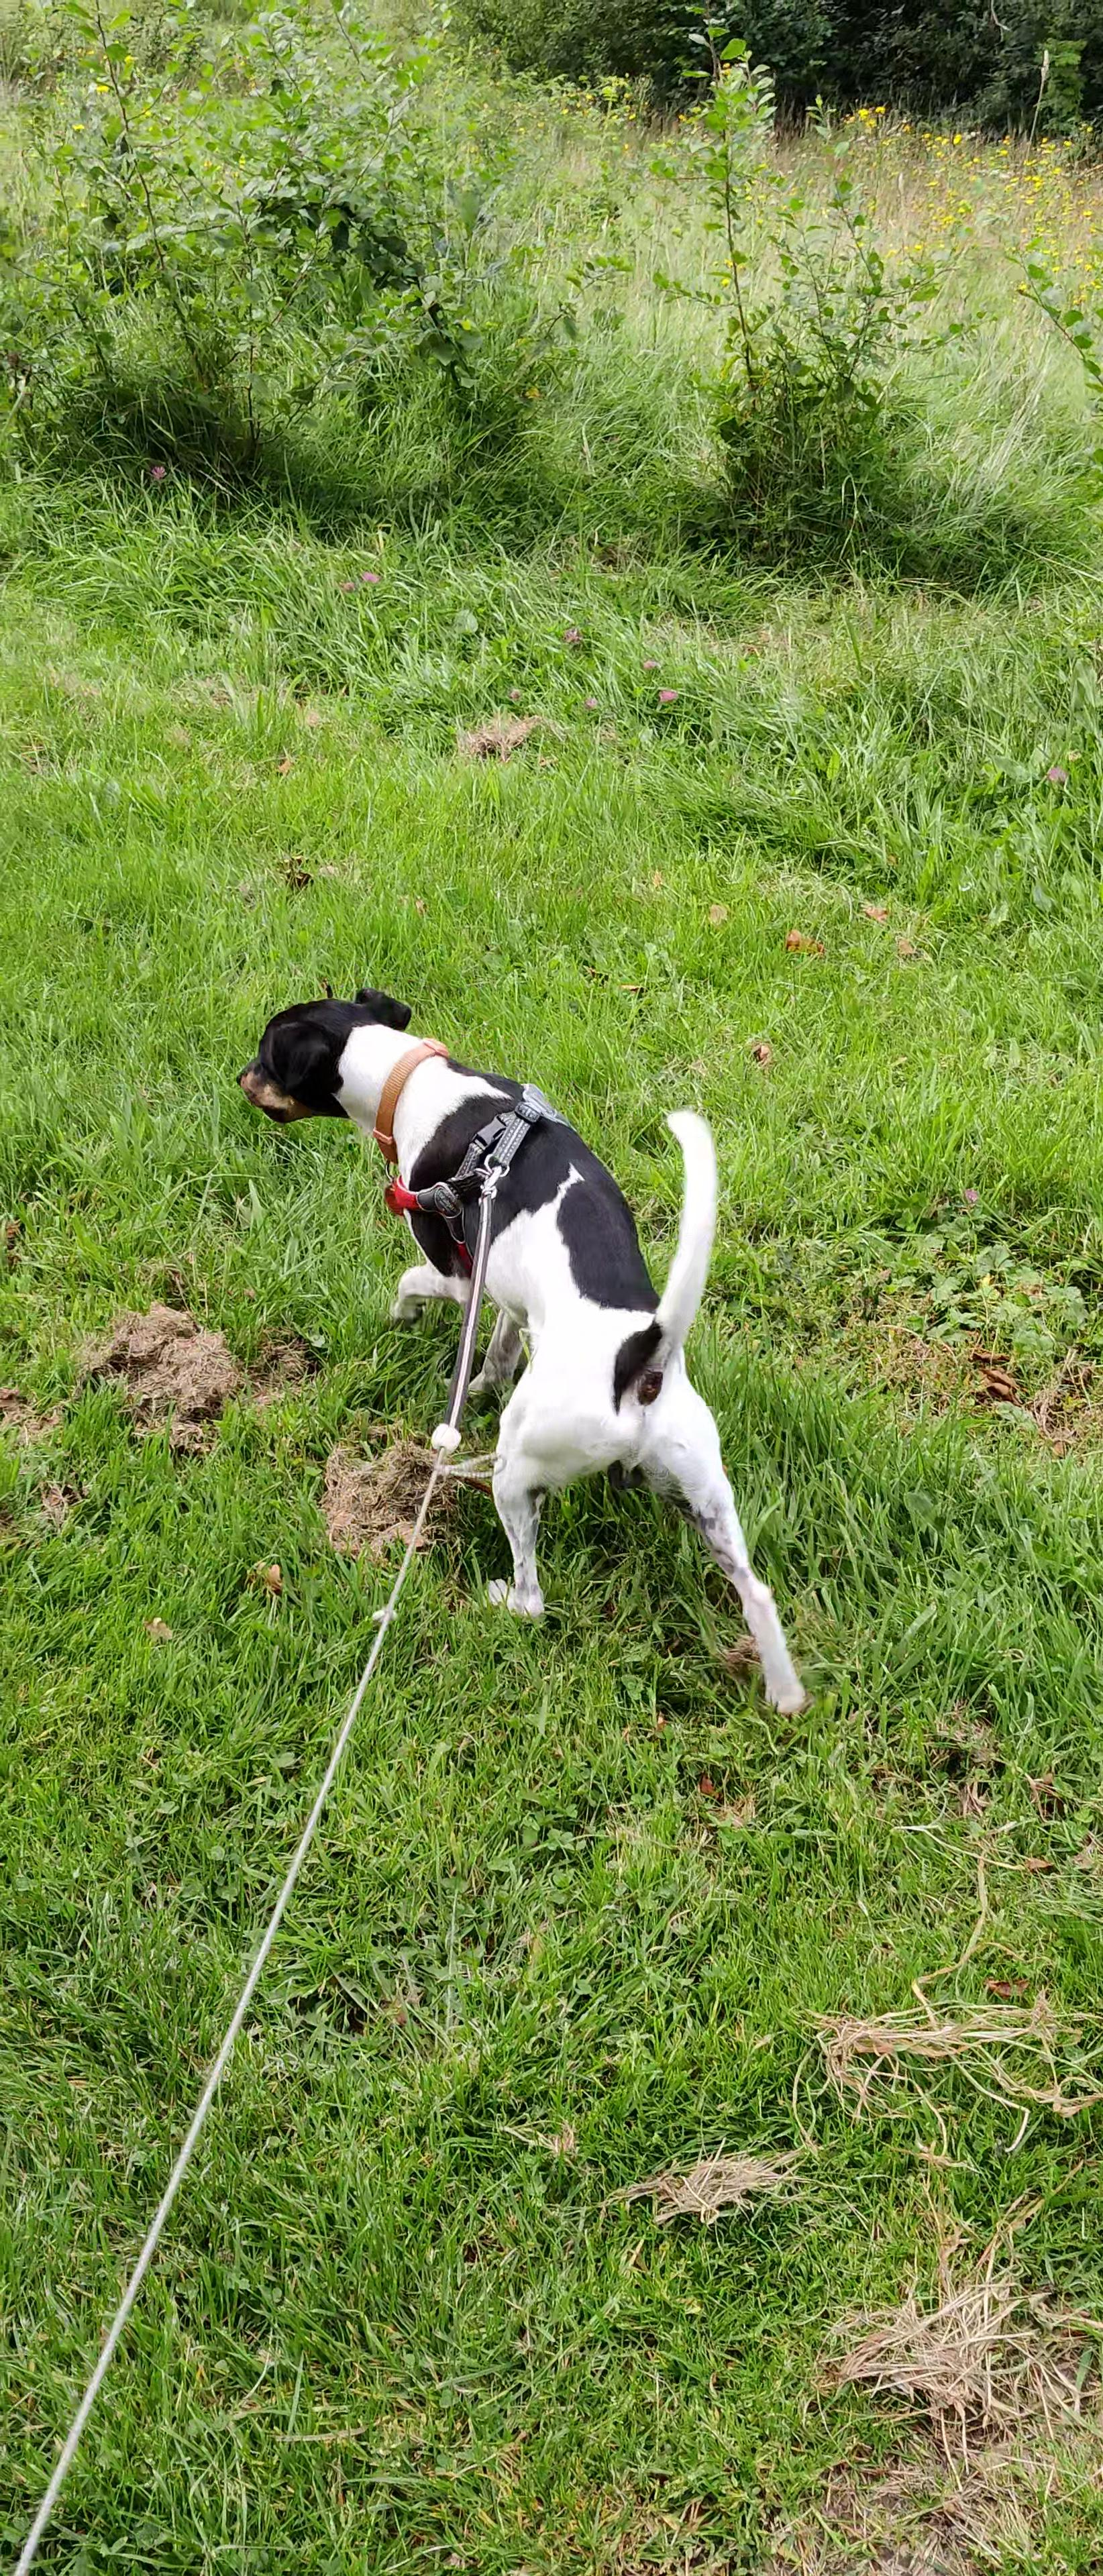Dog: (228, 981, 809, 1725)
